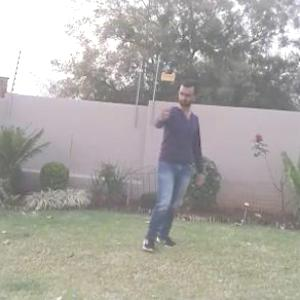takeoff-hand: (152, 101, 177, 125)
